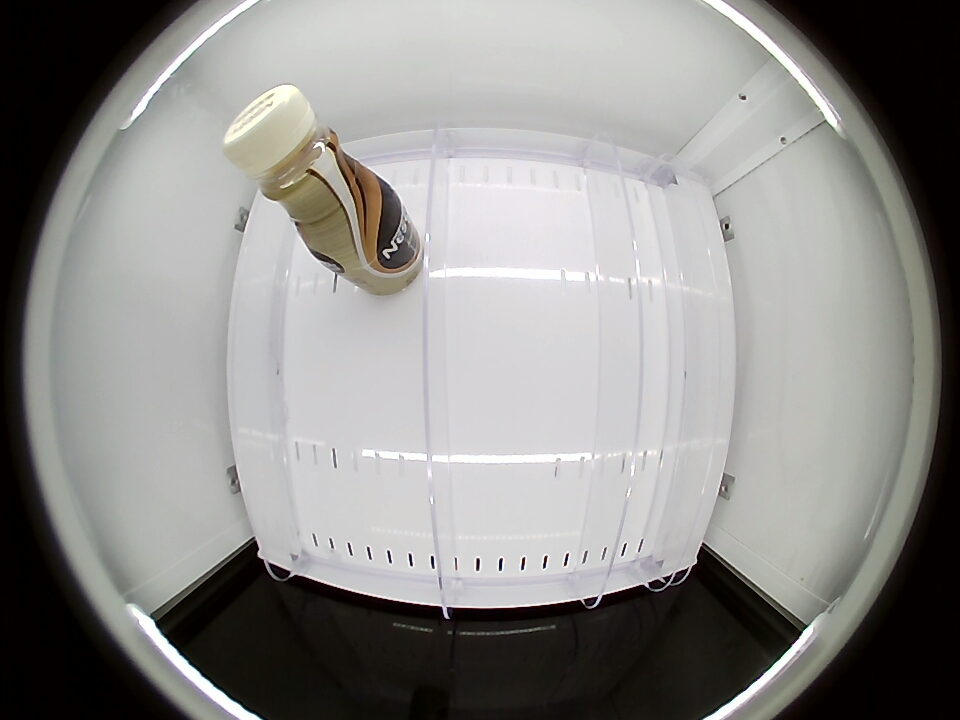kafei: (222, 84, 385, 249)
